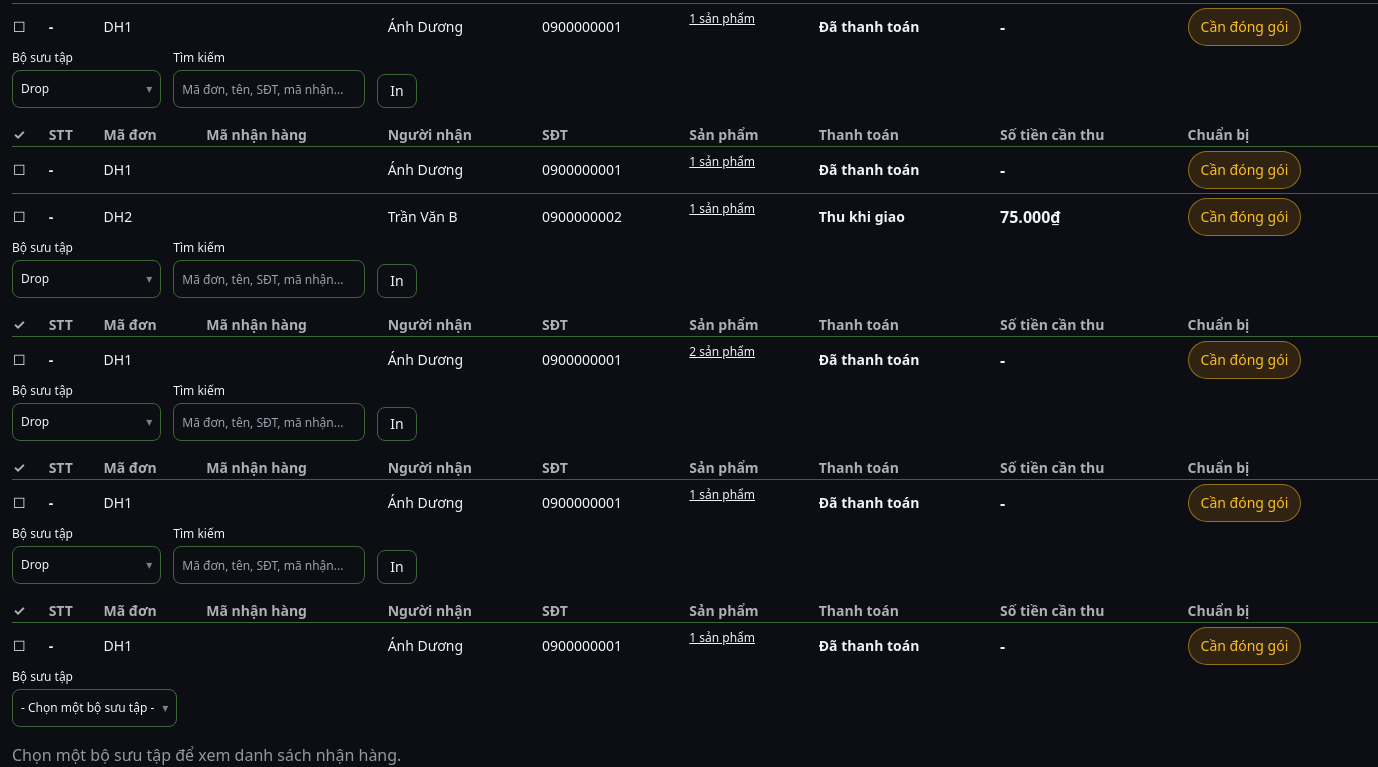
Scenario: ShippingRoster › collapses the item list on screen behind a toggle, but always renders it in full for print
(page scrolled)
Click the button with aria-label "- Chọn một bộ sưu tập -": [95, 708] box [12,689,177,727]
(page scrolled)
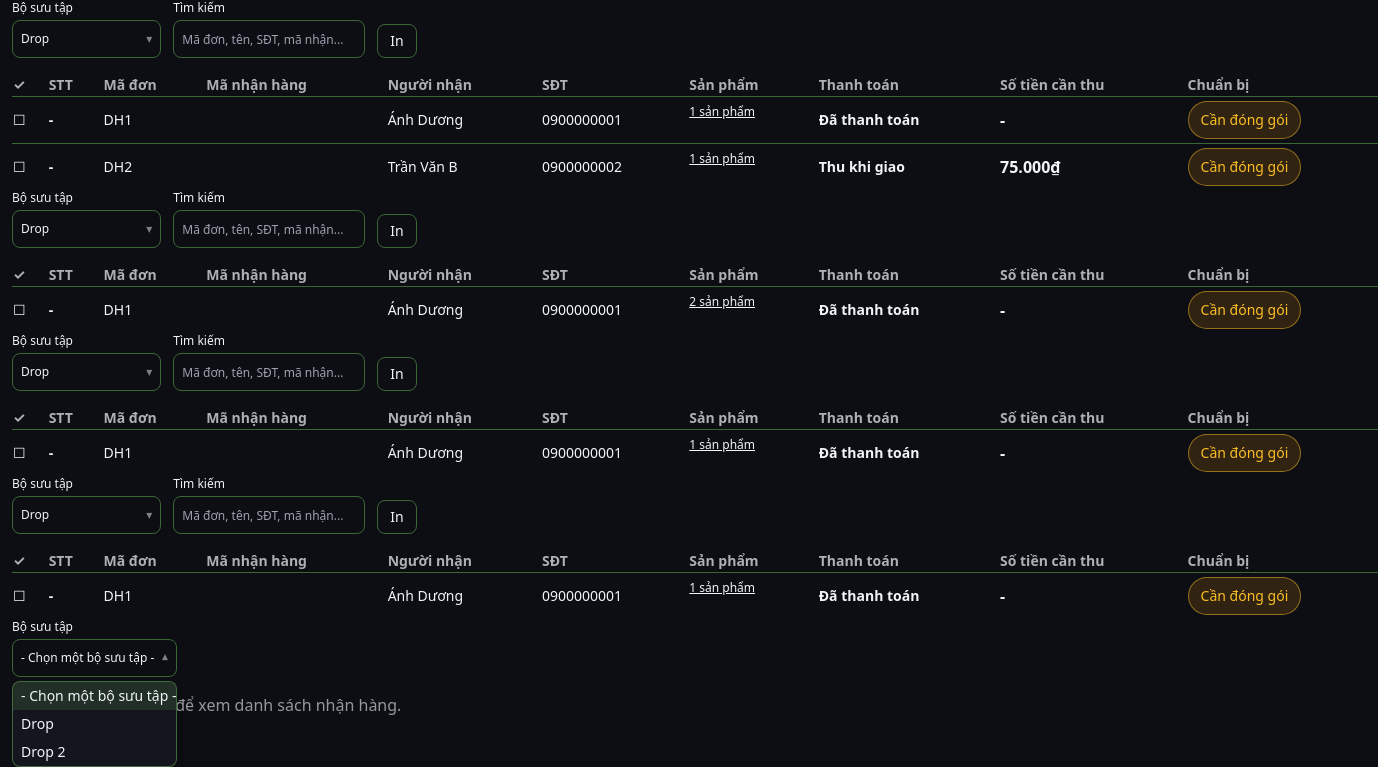
Click the button "Drop": [95, 724] box [13,710,176,738]
(page scrolled)
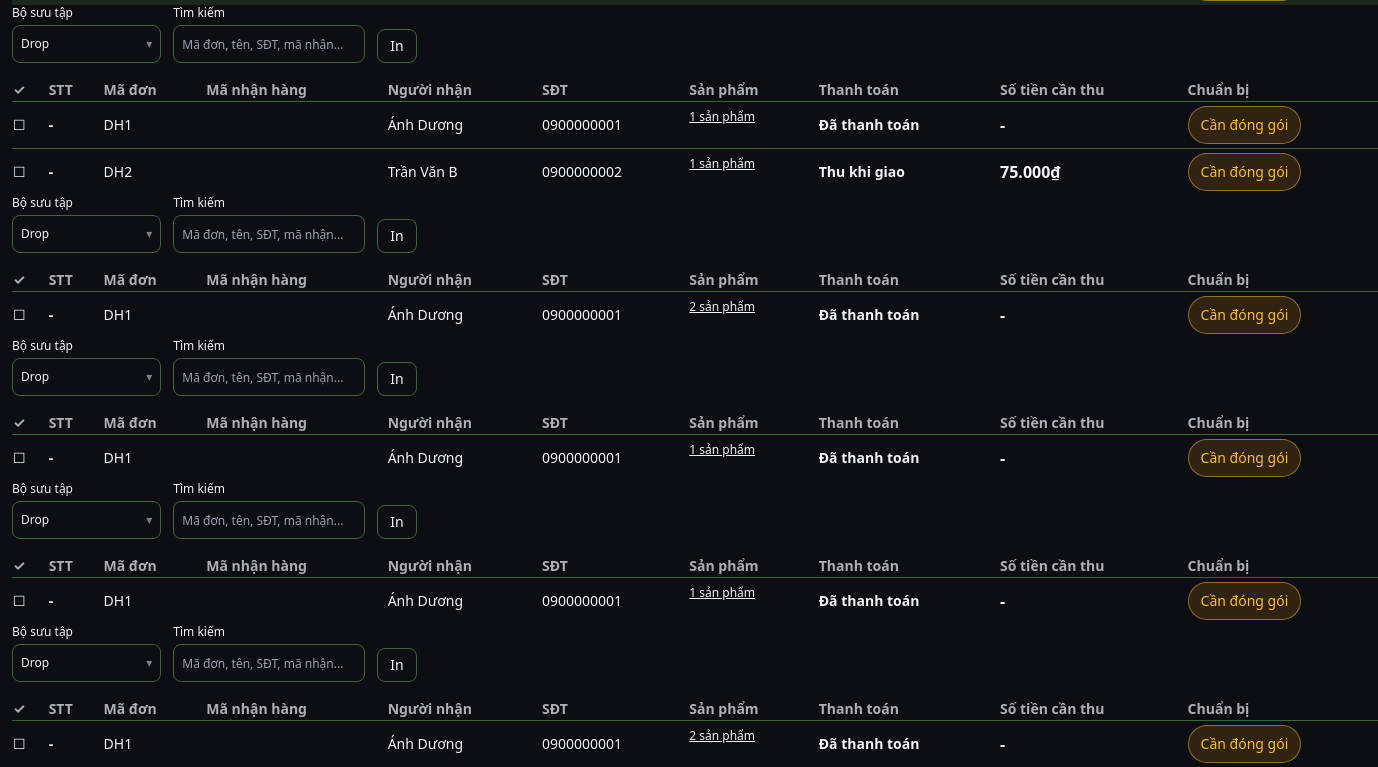
Now the 2nd button "2 sản phẩm" is shown
Click the 2nd button "2 sản phẩm": [722, 736] box [689,728,755,744]
(page scrolled)
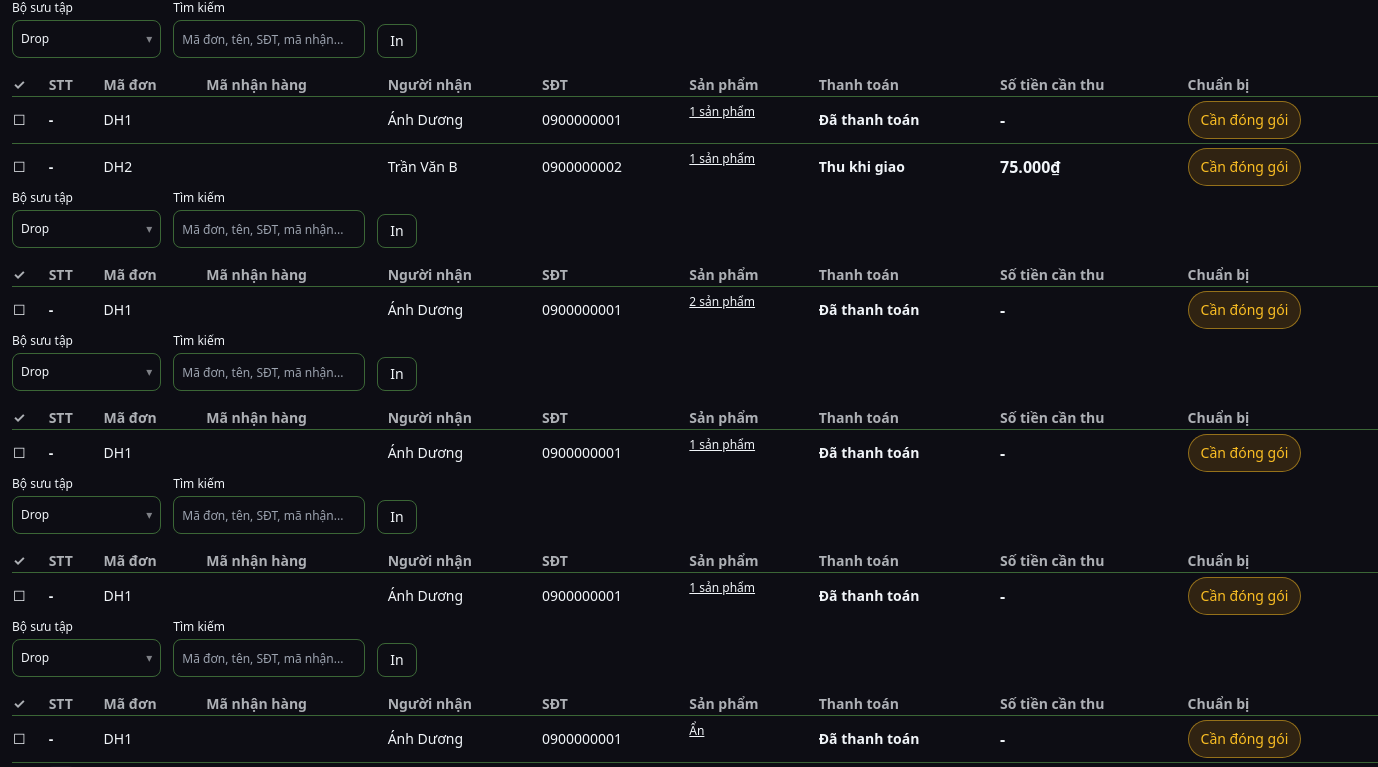
Now the button "Ẩn" is shown, box [689,723,704,739]
